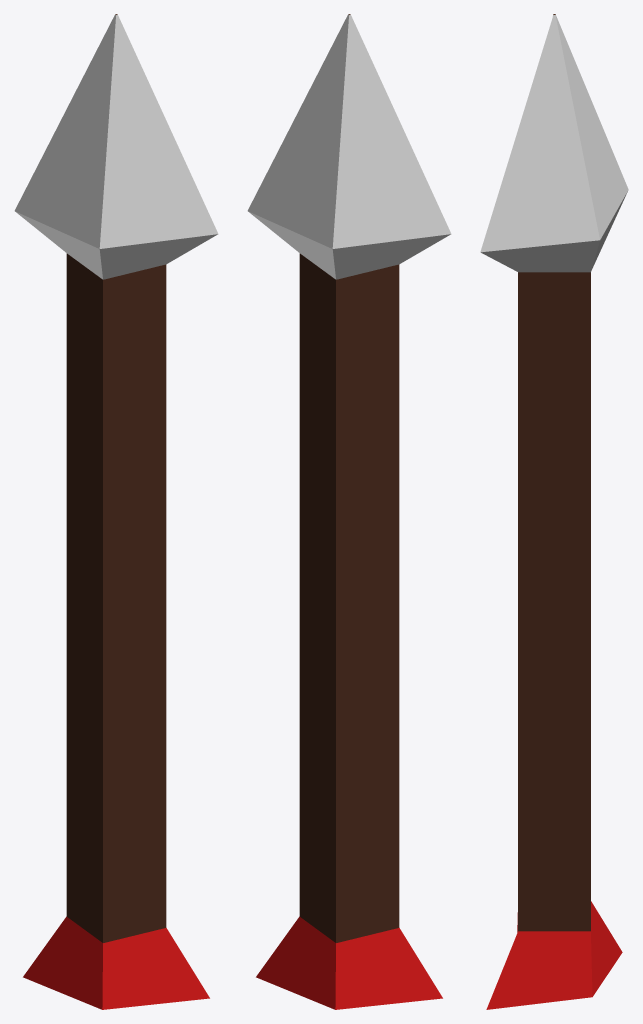
Rendered from arrow.fbx.
3 renders of one model, left to right at view 1: azimuth 30°, elevation 25°; view 2: azimuth 210°, elevation 25°; view 3: azimuth 270°, elevation 25°, orthographic.
Parts seen in each view (by area): view 1: Cube; view 2: Cube; view 3: Cube.
Part boxes in pixels (<box>): Cube: <box>14,14,218,1009</box>; Cube: <box>247,14,451,1009</box>; Cube: <box>480,14,628,1009</box>.
Bounding box in the file's own units: 20.41 × 147 × 20.41.
